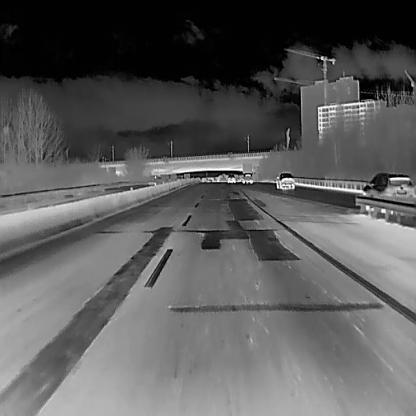car: (361, 171, 415, 204), (275, 172, 294, 189), (241, 172, 252, 183), (227, 174, 236, 182)
